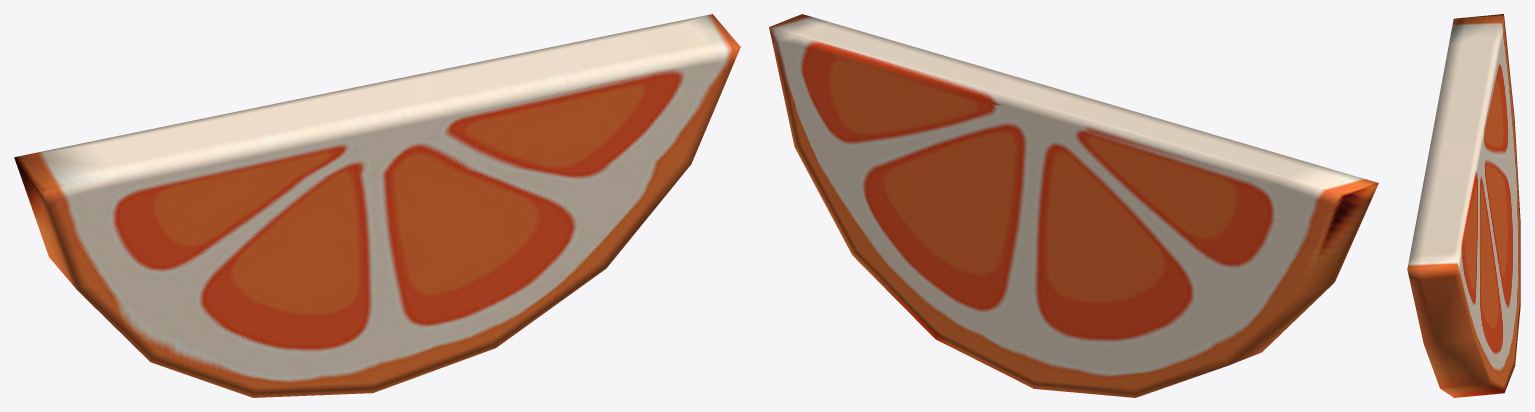
File: orange_orange_slice.glb
3 views of the same model, side by side, from view 1: azimuth 30°, elevation 25°; view 2: azimuth 150°, elevation 25°; view 3: azimuth 270°, elevation 25° (orthographic). The views are drawn at different scales.
Parts seen in each view (by area): view 1: orange_orange_slice; view 2: orange_orange_slice; view 3: orange_orange_slice.
Part boxes in pixels (left/top/right/bottom): orange_orange_slice: left=14, top=14, right=740, bottom=397; orange_orange_slice: left=769, top=14, right=1378, bottom=397; orange_orange_slice: left=1407, top=14, right=1520, bottom=397.
Size of the model in its own units: 0.72 by 0.3076 by 0.1359.
Materials: 1 (1 with a texture image).
